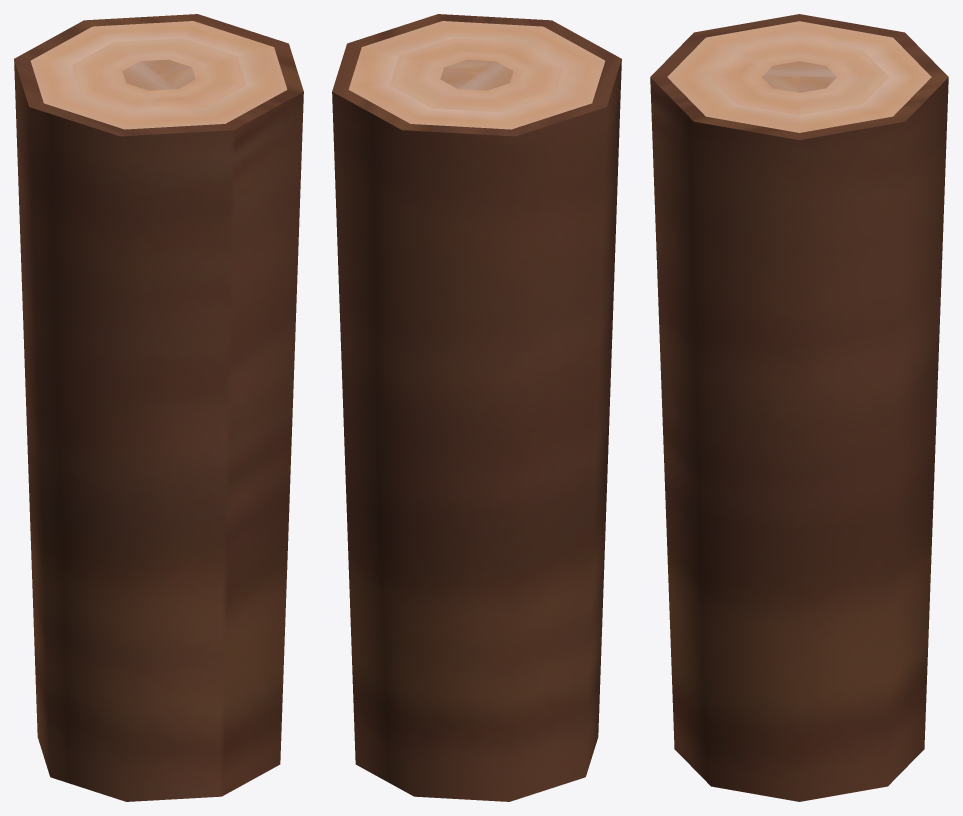
The model's file is fence stake.fbx.
3 renders of one model, left to right at view 1: azimuth 30°, elevation 25°; view 2: azimuth 150°, elevation 25°; view 3: azimuth 270°, elevation 25°, orthographic.
Visible parts, largest first — view 1: Plane.003; view 2: Plane.003; view 3: Plane.003.
Part boxes in pixels (box(x1,y1,x2,y2)): Plane.003: box(14, 14, 303, 801); Plane.003: box(332, 14, 621, 801); Plane.003: box(650, 14, 948, 801).
Bounding box in the file's own units: 1.21 × 3 × 1.21.
